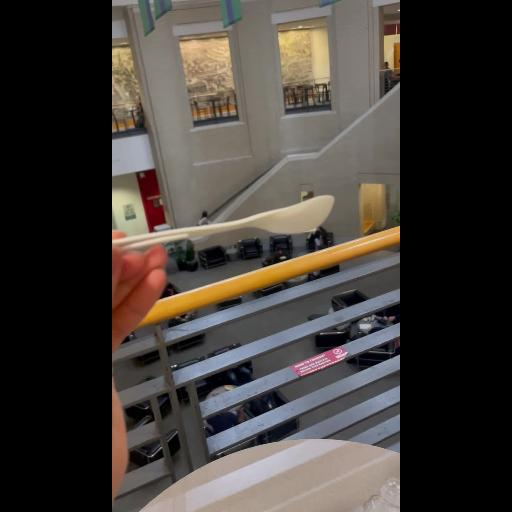utensil: (112, 184, 340, 264)
